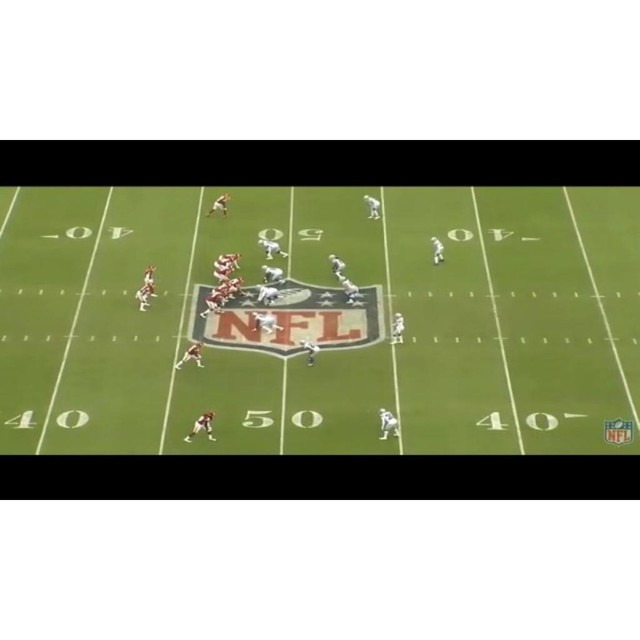american-football-player: (183, 410, 218, 442), (251, 311, 283, 344), (174, 341, 206, 370), (199, 289, 229, 319), (376, 408, 400, 440), (339, 276, 363, 307), (206, 193, 232, 220), (258, 238, 289, 260), (135, 281, 154, 312), (300, 339, 320, 368), (256, 284, 281, 307), (260, 265, 287, 286), (327, 254, 347, 281), (142, 264, 158, 297), (390, 312, 406, 345), (429, 236, 446, 267), (213, 263, 234, 285), (363, 195, 381, 220)
